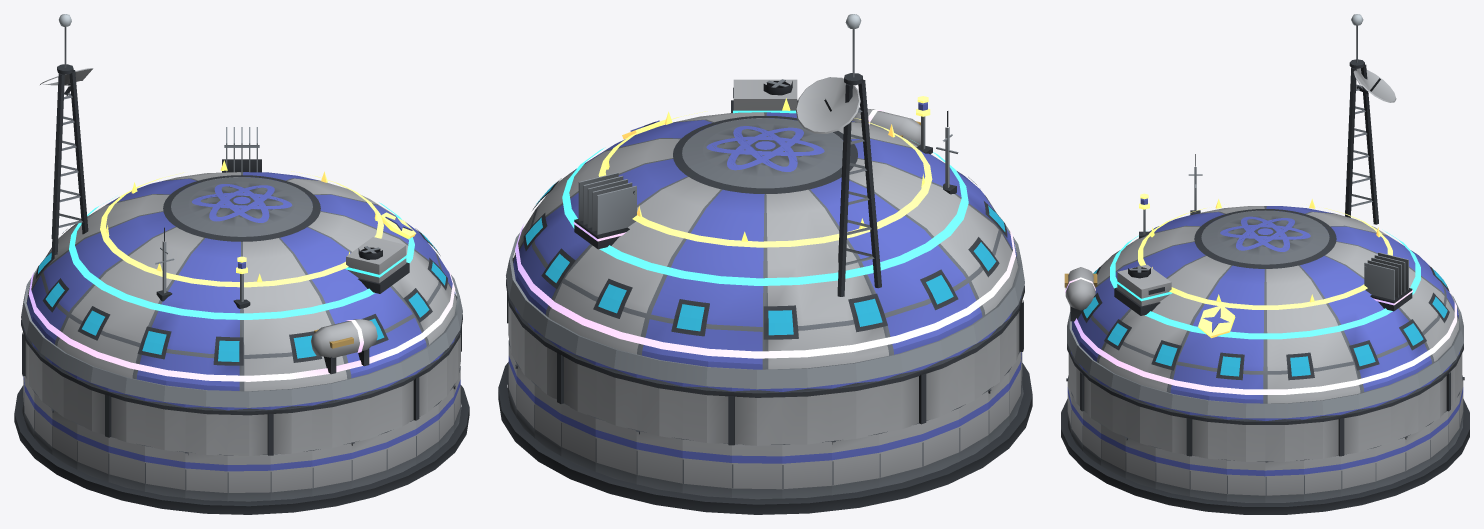
Rendered from research_lab_s_far.glb.
3 renders of one model, left to right at view 1: azimuth 30°, elevation 25°; view 2: azimuth 150°, elevation 25°; view 3: azimuth 270°, elevation 25°, orthographic. The views are drawn at different scales.
Visible parts, largest first — view 1: Roof, Base, L2, L4, L3, L5; view 2: Roof, Base, L2, L4, L3, L5; view 3: Roof, Base, L2, L4, L3, L5.
Boxes of the visible parts, x1,y1,x2,y2 form: Roof: (21,14,462,455); Base: (14,366,469,514); L2: (21,227,462,407); L4: (28,127,455,381); L3: (69,198,414,319); L5: (100,160,416,308); Roof: (506,14,1024,445); Base: (498,339,1032,514); L2: (506,111,1024,389); L4: (515,109,1015,358); L3: (562,79,968,285); L5: (598,96,932,247); Roof: (1067,14,1463,461); Base: (1061,375,1469,514); L2: (1067,154,1463,418); L4: (1064,252,1456,394); L3: (1110,231,1420,339); L5: (1138,193,1392,338).
Size of the model in its own units: 11.74 by 11.38 by 11.74.
